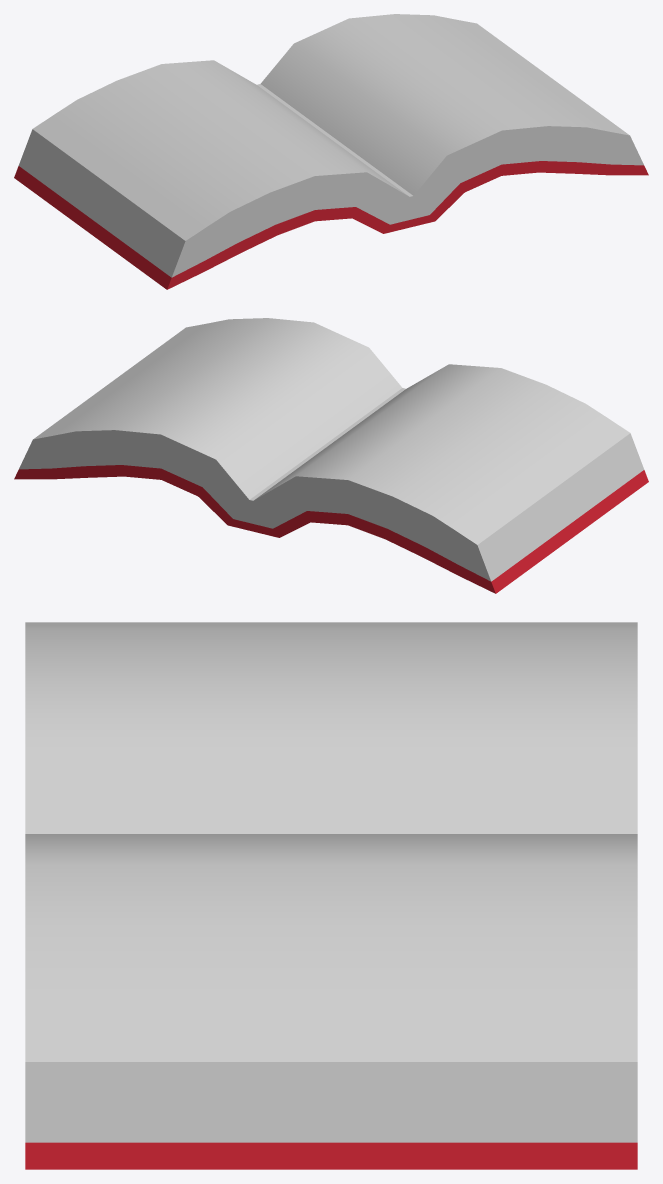
File: Book.fbx
3 renders of one model, top to bottom at view 1: azimuth 30°, elevation 25°; view 2: azimuth 150°, elevation 25°; view 3: azimuth 270°, elevation 25°, orthographic. The views are drawn at different scales.
Visible parts, largest first — view 1: Grid; view 2: Grid; view 3: Grid.
Boxes of the visible parts, box(x1,y1,x2,y2) form: Grid: box(14, 14, 648, 289); Grid: box(14, 318, 648, 593); Grid: box(25, 622, 637, 1169).
Size of the model in its own units: 283 by 45.32 by 156.
